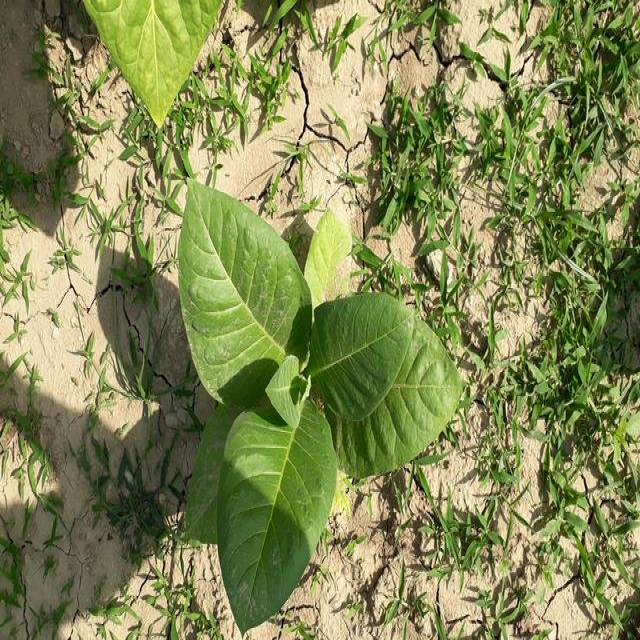crop: (176, 180, 466, 631)
